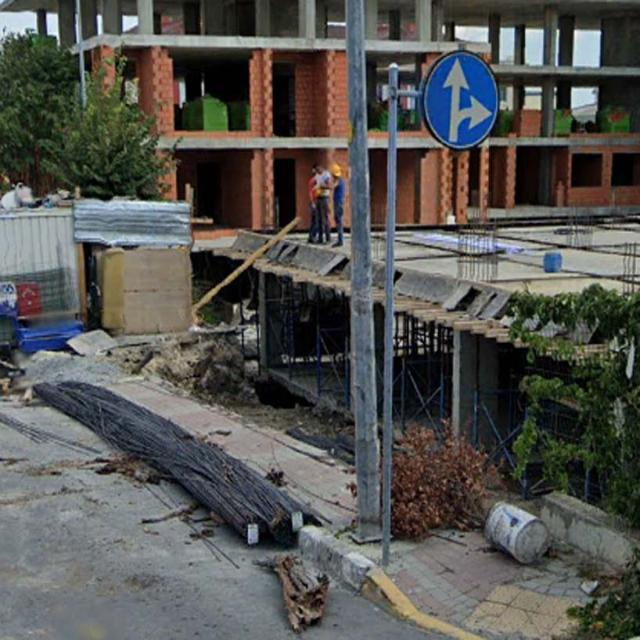ilerisag: (422, 52, 498, 151)
